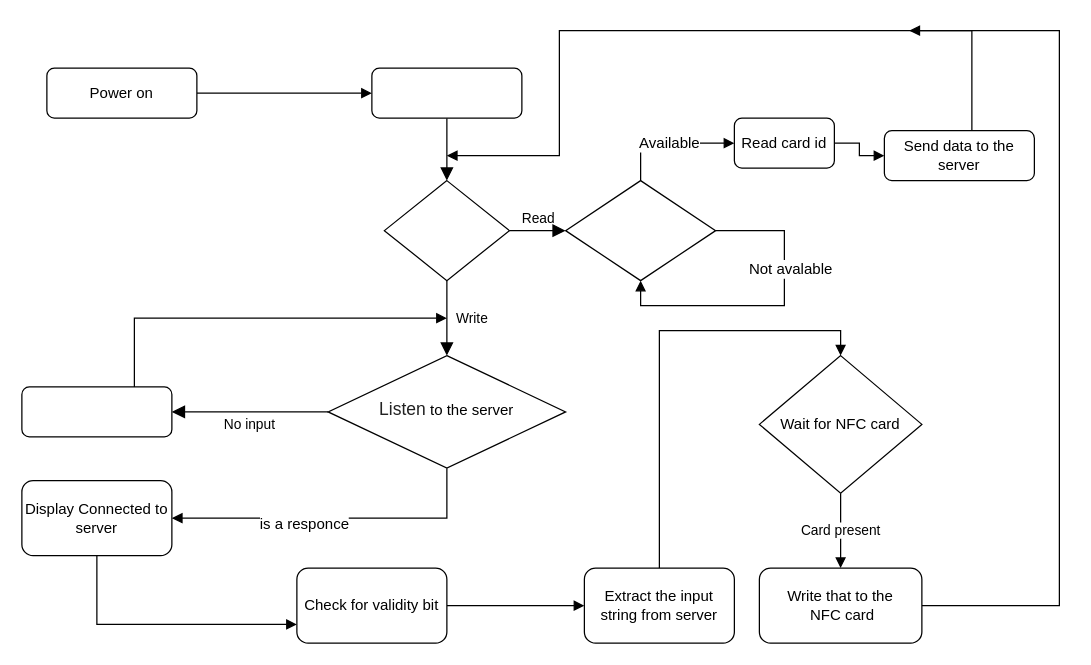
This 1091x665 diagram has some shape labels left out. Here are the shapes that lost their labels. From the top down, the centre of each, then its label:
pixel 446 92: Countdown
pixel 446 230: Mode select
pixel 640 230: Wait for a card
pixel 96 411: Wait for 2 seconds
